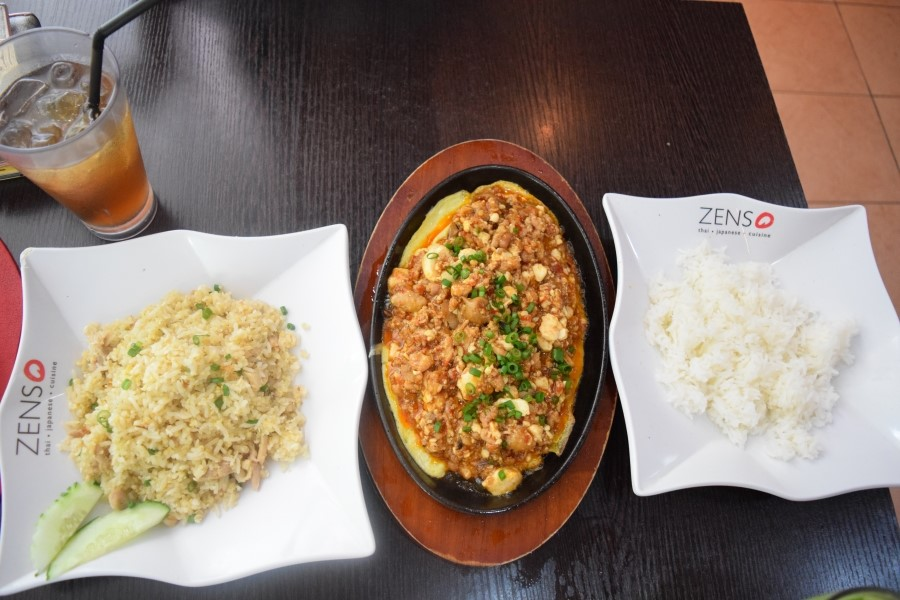plain rice: (93, 309, 286, 486), (661, 277, 845, 439)
